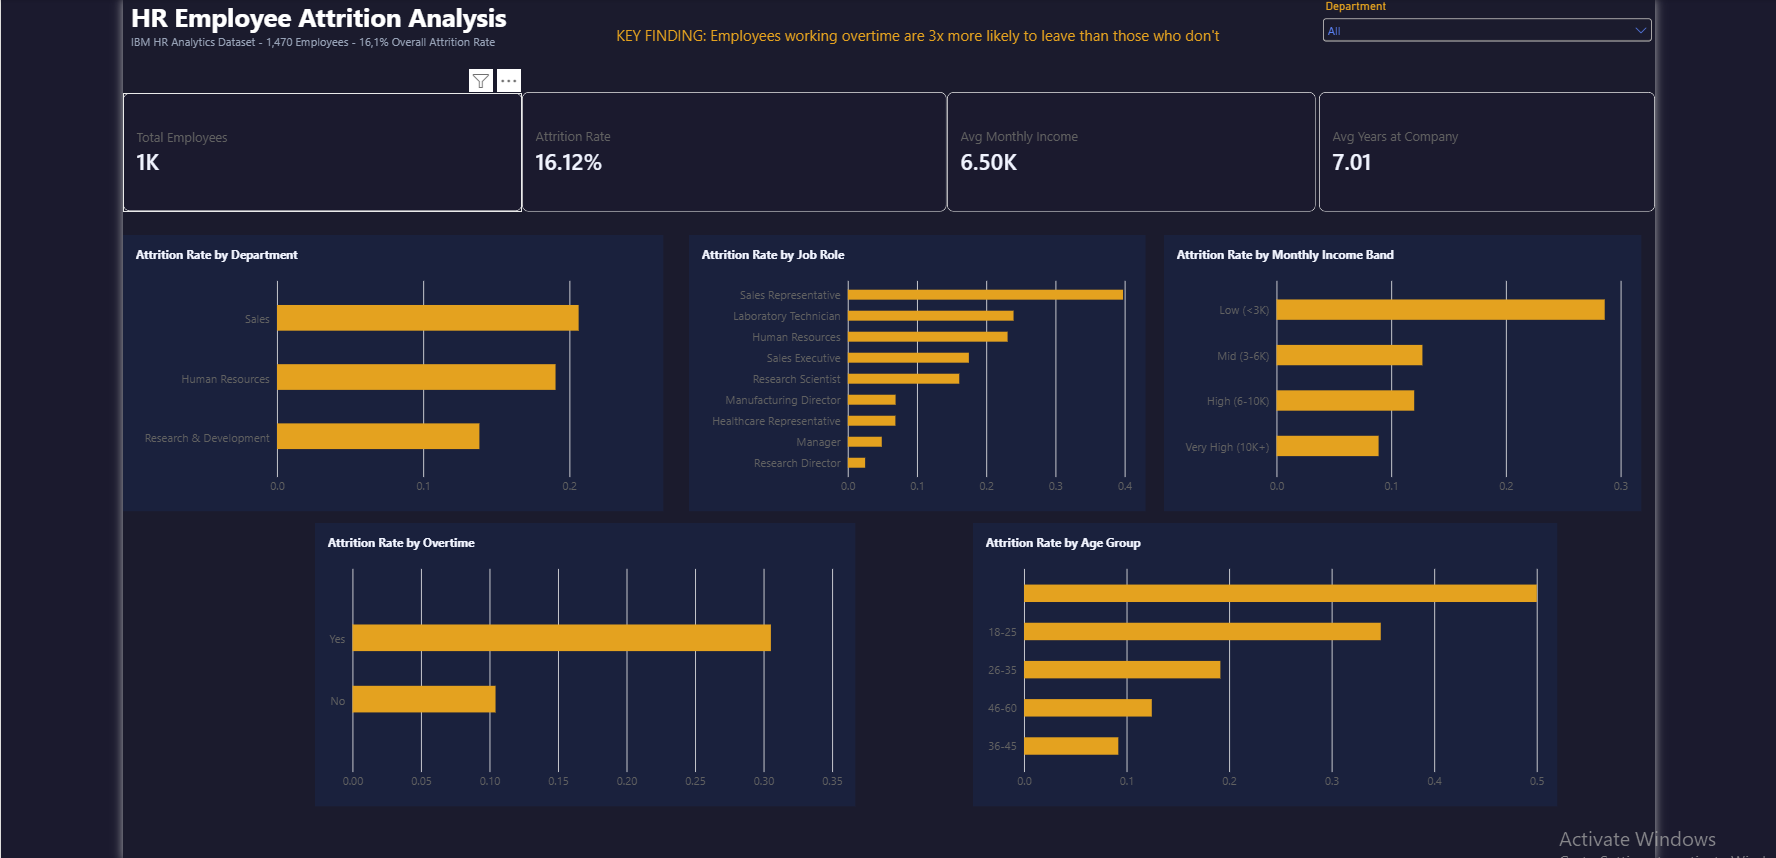

The dashboard page shown, as its layout file describes it:
{"tool":"powerbi","page":{"name":"Page 1","canvas":[1920,1080],"ordinal":0},"visuals":[{"type":"textbox","box":[10.2,0,490.2,64.2],"z":0},{"type":"textbox","box":[10.2,43.8,490.2,52.5],"z":1},{"type":"textbox","box":[306.4,210.1,194,150.3],"z":2},{"type":"textbox","box":[579.2,32.1,795.1,64.2],"z":3},{"type":"cardVisual","fields":{"Data":["HR_Attrition_Clean.Total Employees"]},"box":[0,118.2,500.4,148.8],"z":4},{"type":"cardVisual","fields":{"Data":["HR_Attrition_Clean.Attrition Rate"]},"box":[500.4,116.7,532.5,150.3],"z":5},{"type":"cardVisual","fields":{"Data":["HR_Attrition_Clean.Avg Monthly Income"]},"box":[1032.9,116.7,462.5,150.3],"z":6},{"type":"cardVisual","fields":{"Data":["HR_Attrition_Clean.Avg Years at Company"]},"box":[1498.4,116.7,421.6,150.3],"z":7},{"type":"clusteredBarChart","title":"Attrition Rate by Department","fields":{"Category":["HR_Attrition_Clean.Department"],"Y":["Avg(HR_Attrition_Clean.Attrition_Binary)"]},"box":[0,296.2,677,345.8],"z":8},{"type":"clusteredBarChart","title":"Attrition Rate by Overtime","fields":{"Category":["HR_Attrition_Clean.OverTime"],"Y":["Avg(HR_Attrition_Clean.Attrition_Binary)"]},"box":[240.7,656.5,677,354.5],"z":9},{"type":"clusteredBarChart","title":"Attrition Rate by Job Role","fields":{"Category":["HR_Attrition_Clean.JobRole"],"Y":["Avg(HR_Attrition_Clean.Attrition_Binary)"]},"box":[709.1,296.2,571.9,345.8],"z":10},{"type":"clusteredBarChart","title":"Attrition Rate by Age Group","fields":{"Category":["HR_Attrition_Clean.Age_Group"],"Y":["Avg(HR_Attrition_Clean.Attrition_Binary)"]},"box":[1065,656.5,732.4,354.5],"z":11},{"type":"clusteredBarChart","title":"Attrition Rate by Monthly Income Band","fields":{"Category":["HR_Attrition_Clean.Income_Band"],"Y":["Avg(HR_Attrition_Clean.Attrition_Binary)"]},"box":[1304.3,296.2,598.2,345.8],"z":12},{"type":"slicer","fields":{"Values":["HR_Attrition_Clean.Department"]},"box":[1498.4,1.5,421.6,116.7],"z":13}]}

Visuals, with their boxes on the page's 1920x1080 design canvas (x1, y1, x2, y2). These are canvas units, not pixel positions in the 1776x858 screenshot, which may show the page scaled, cropped or inside an application window:
textbox: select_region(10, 0, 500, 64)
textbox: select_region(10, 44, 500, 96)
textbox: select_region(306, 210, 500, 360)
textbox: select_region(579, 32, 1374, 96)
cardVisual - HR_Attrition_Clean.Total Employees: select_region(0, 118, 500, 267)
cardVisual - HR_Attrition_Clean.Attrition Rate: select_region(500, 117, 1033, 267)
cardVisual - HR_Attrition_Clean.Avg Monthly Income: select_region(1033, 117, 1495, 267)
cardVisual - HR_Attrition_Clean.Avg Years at Company: select_region(1498, 117, 1920, 267)
"Attrition Rate by Department" clusteredBarChart: select_region(0, 296, 677, 642)
"Attrition Rate by Overtime" clusteredBarChart: select_region(241, 656, 918, 1011)
"Attrition Rate by Job Role" clusteredBarChart: select_region(709, 296, 1281, 642)
"Attrition Rate by Age Group" clusteredBarChart: select_region(1065, 656, 1797, 1011)
"Attrition Rate by Monthly Income Band" clusteredBarChart: select_region(1304, 296, 1902, 642)
slicer - HR_Attrition_Clean.Department: select_region(1498, 2, 1920, 118)
